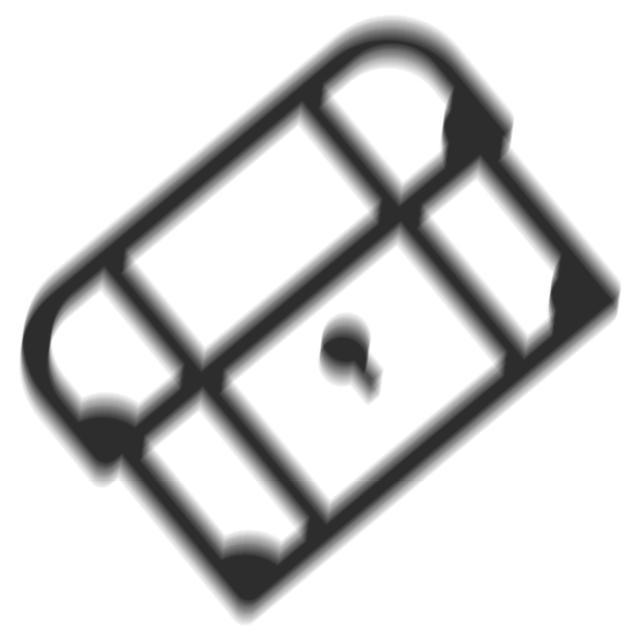treasure_box: (4, 4, 634, 639)
